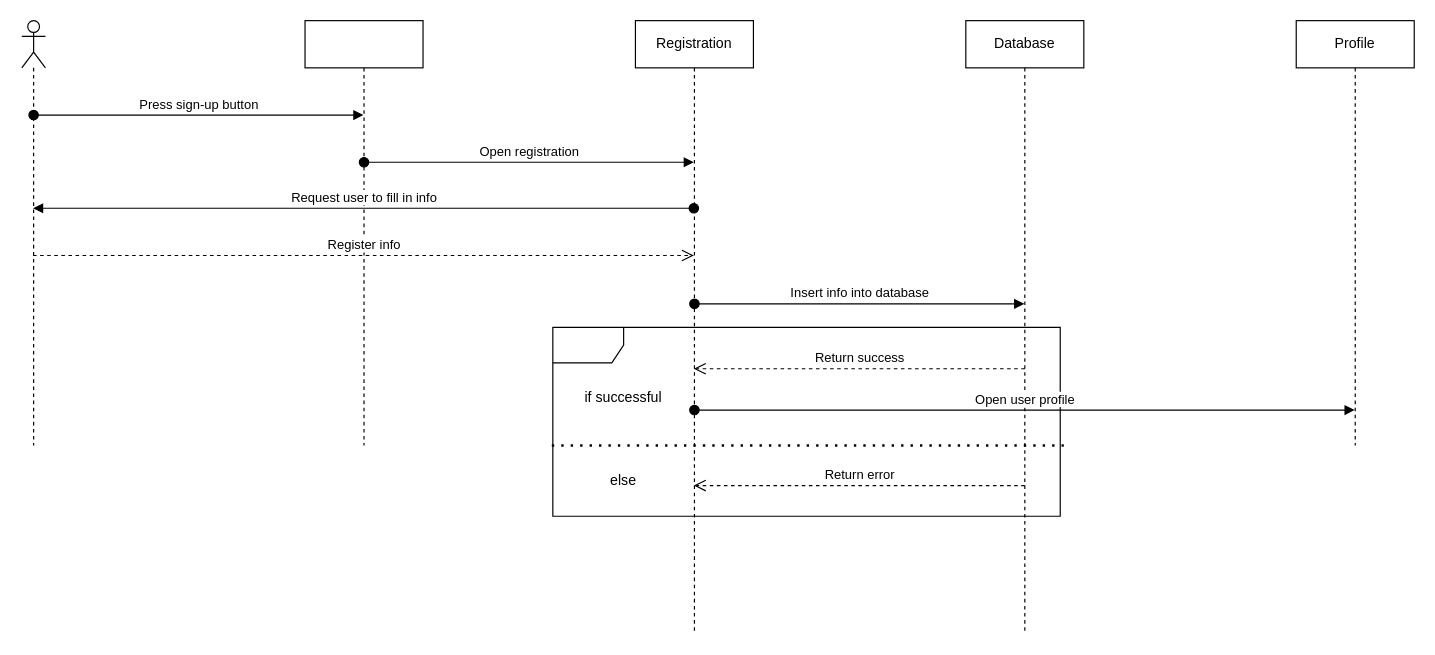
Some shapes in this 1435 by 655 pixel diagram are drawn without their labels. The box of each missing label's shape, as (x1, y1, x2, y2) in pixels:
alt: (552, 326, 1060, 516)
Home: (304, 19, 423, 445)
